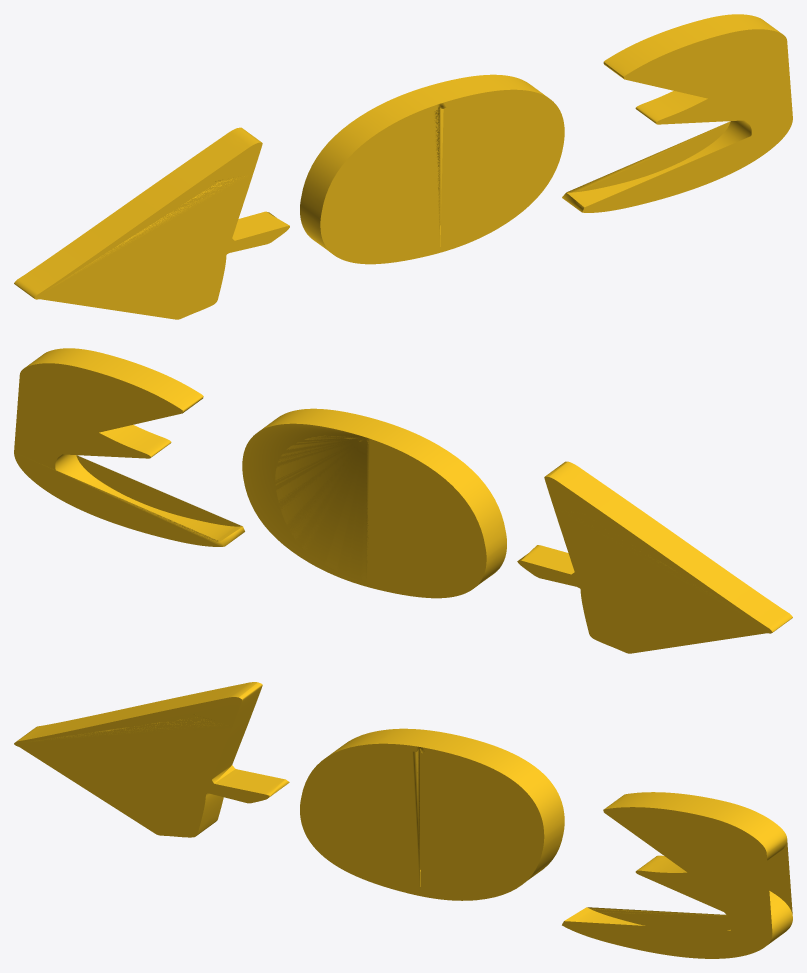
3 renders of one model, top to bottom at view 1: azimuth 30°, elevation 25°; view 2: azimuth 150°, elevation 25°; view 3: azimuth 330°, elevation 25°, orthographic.
Visible parts, largest first — view 1: T_403_LOD0; view 2: T_403_LOD0; view 3: T_403_LOD0.
Boxes of the visible parts, bbox=[...] form: T_403_LOD0: bbox=[14, 14, 792, 319]; T_403_LOD0: bbox=[14, 348, 792, 653]; T_403_LOD0: bbox=[14, 682, 792, 958].
Size of what is drawn, in the model's own units: 19.5 by 3.86 by 0.9122.
